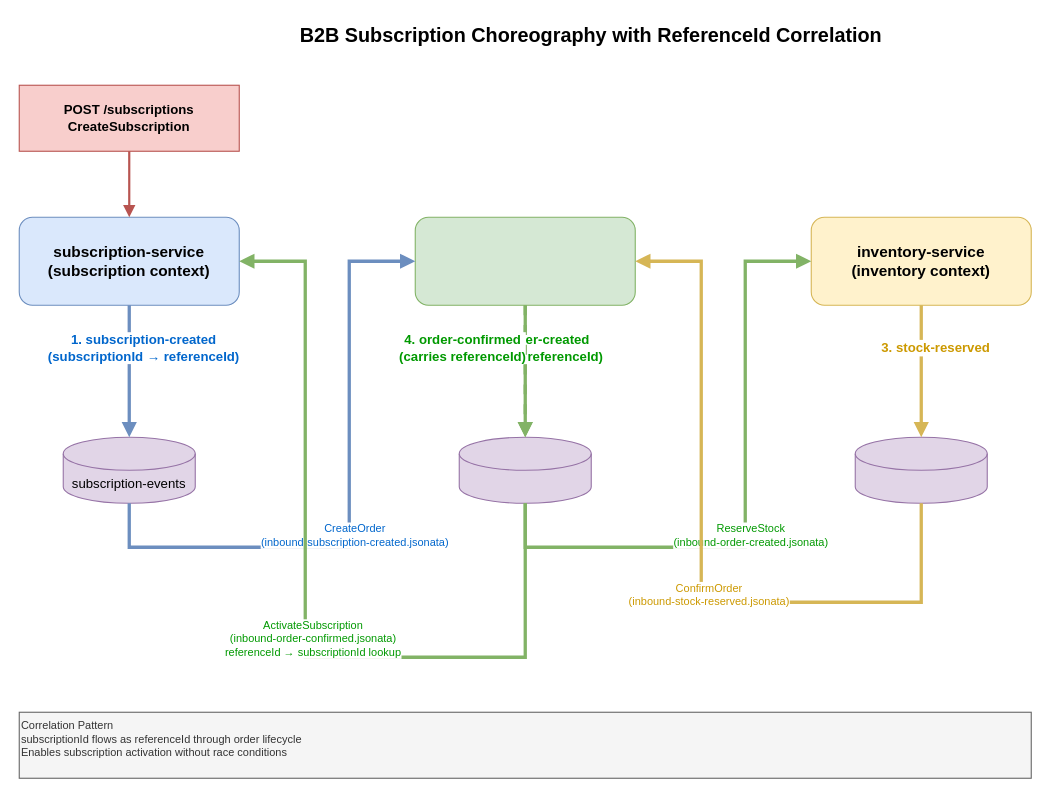
The diagram is 1051 pixels wide and 798 high, and some of its shapes have lost their labels. The shapes that lost their labels are listed below. From the top down, each one's centre as x and y in pixels, then its label:
point (524, 260): order-service (order context)
point (524, 469): order-events
point (920, 469): inventory-events
